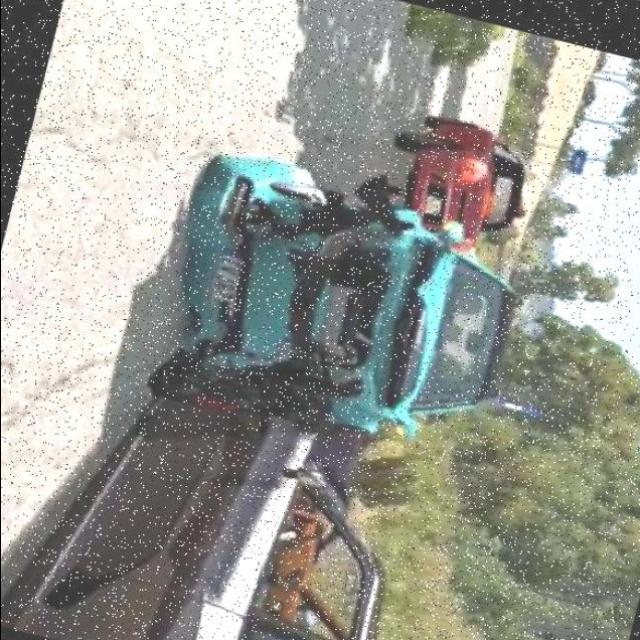accident: (74, 177, 510, 640)
